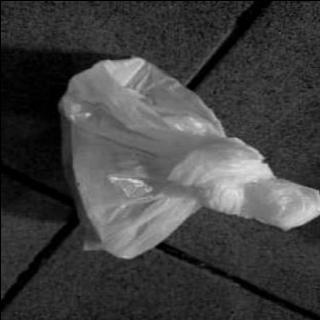objects: (56, 54, 320, 258)
